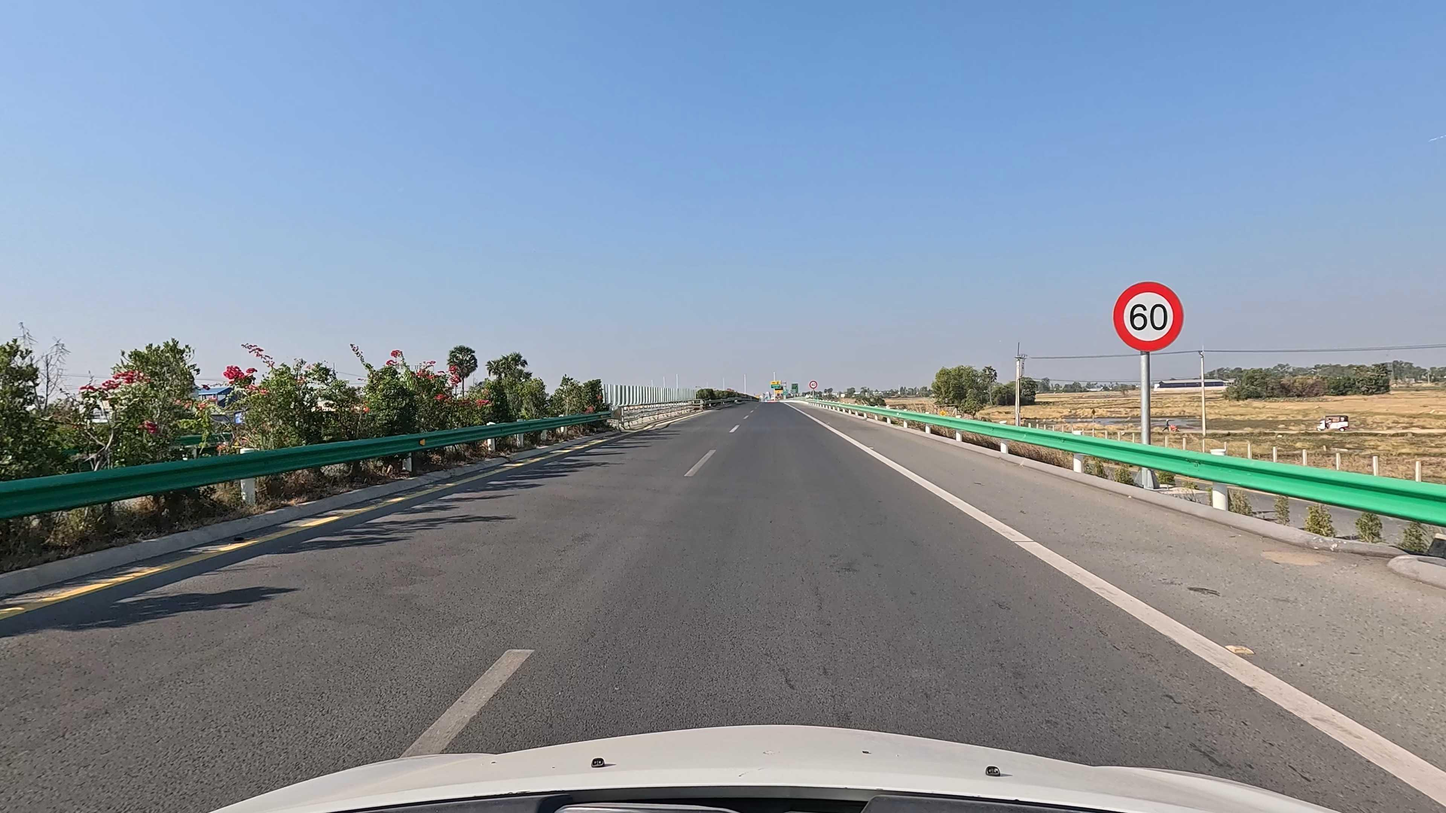speed_limit_40: (808, 381, 818, 390)
speed_limit_60: (1112, 280, 1184, 353)
